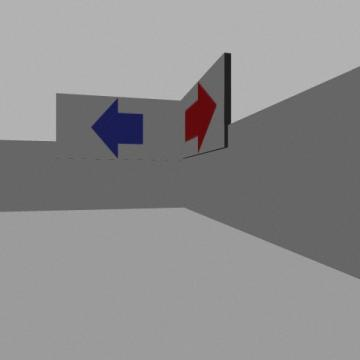blue_left: (92, 99, 143, 157)
red_right: (185, 82, 216, 152)
